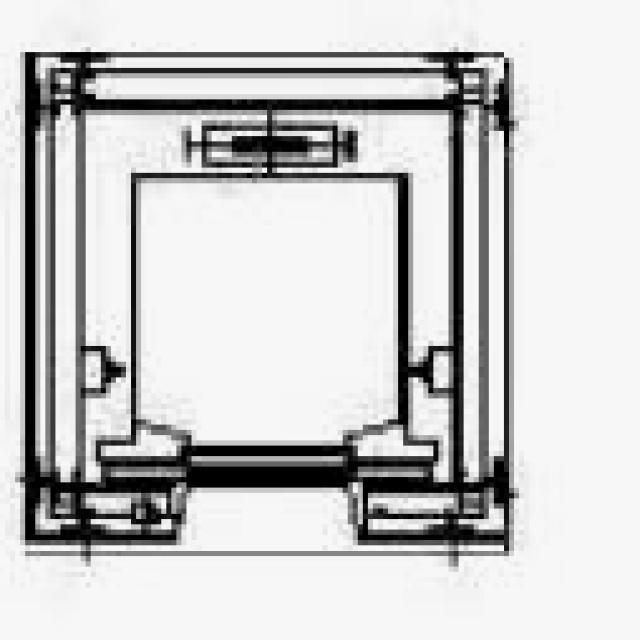lift: (15, 52, 504, 551)
